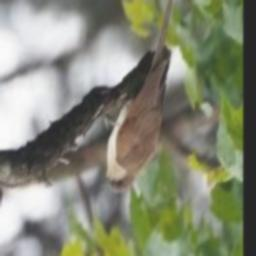Cuckoo: (101, 0, 175, 193)
